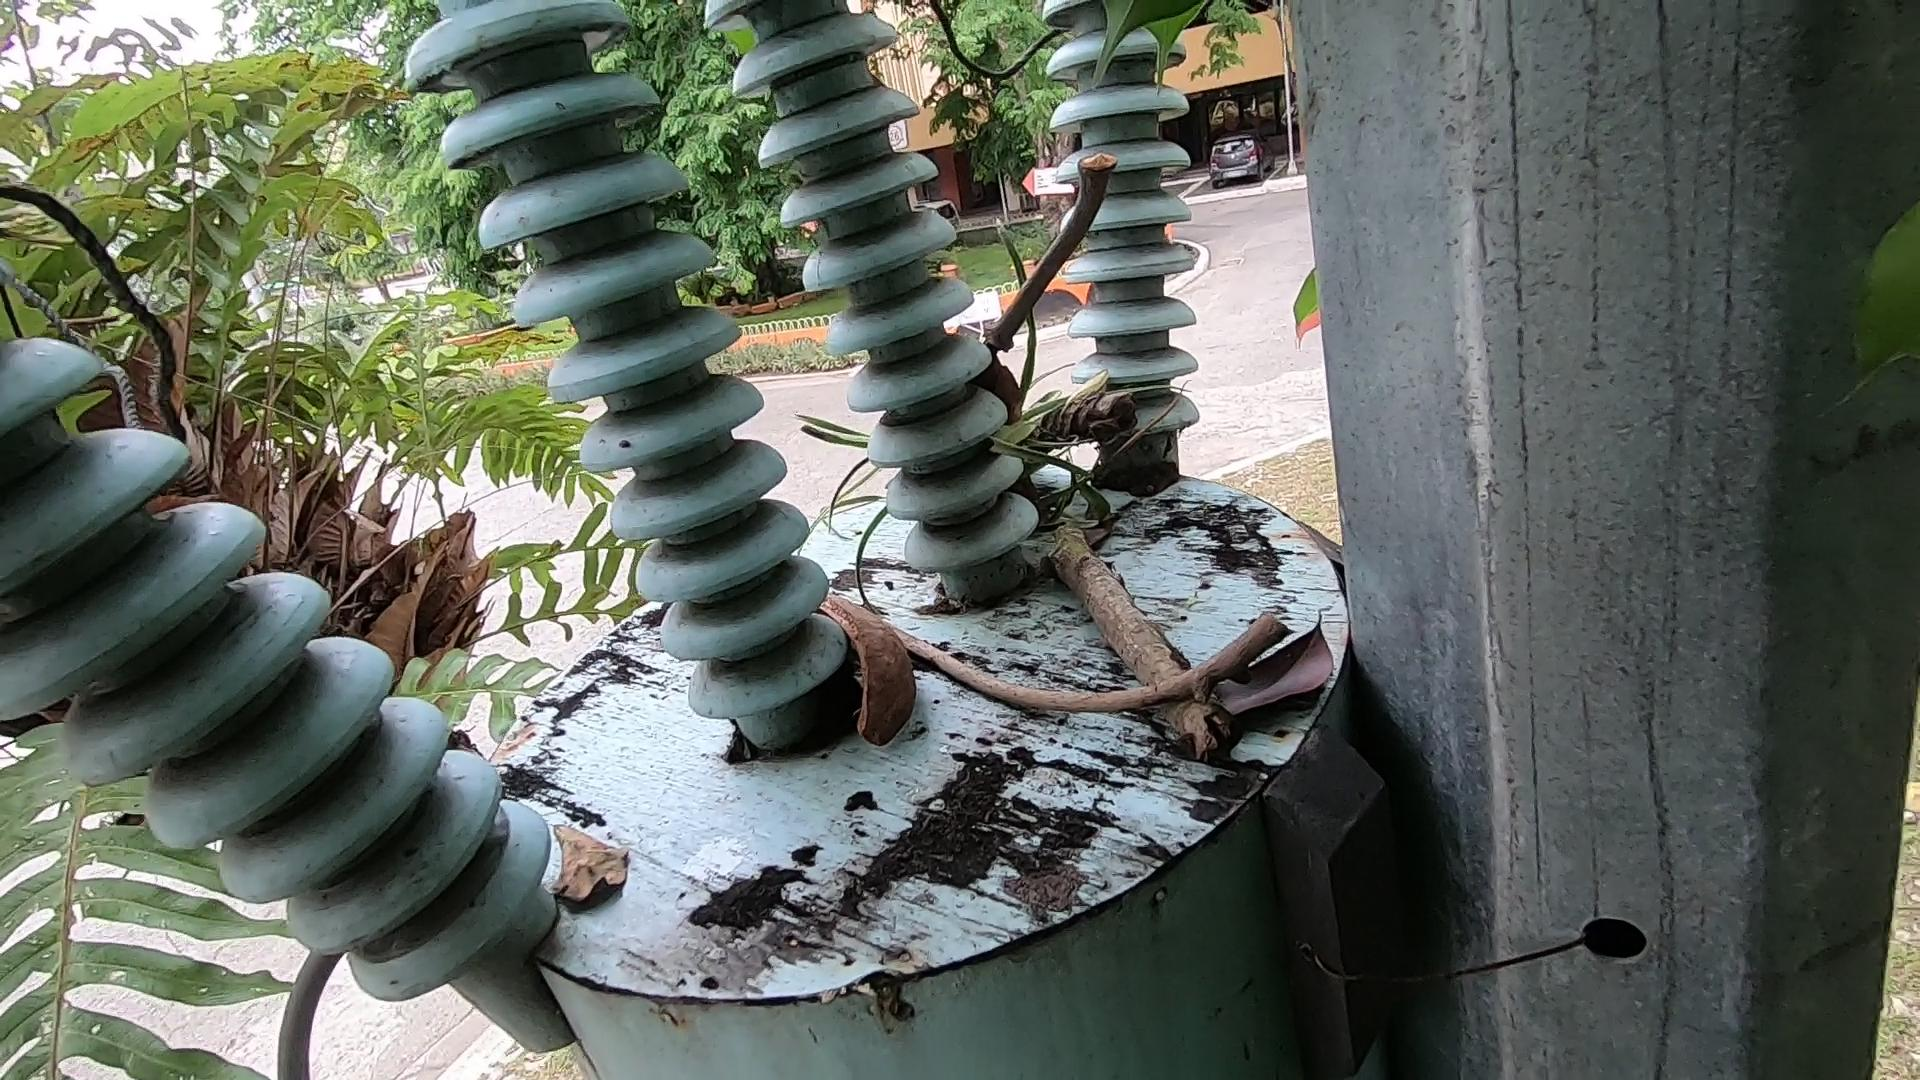branch with leaves: (924, 386, 1262, 853)
leaf: (1208, 582, 1375, 819), (479, 778, 647, 924)
mahogany fruit: (963, 326, 1085, 599), (800, 574, 928, 794)
tree branch: (903, 51, 1207, 512), (824, 646, 1278, 746)
